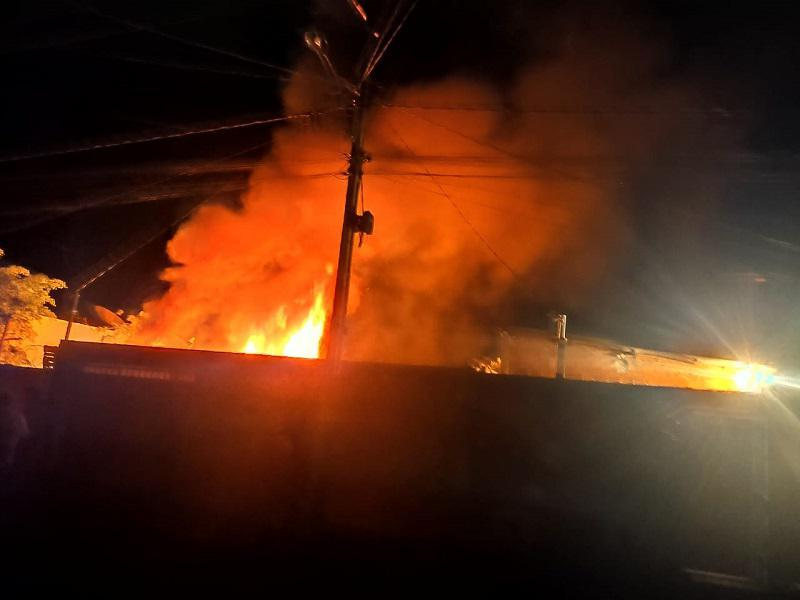Fire: (243, 289, 333, 357)
